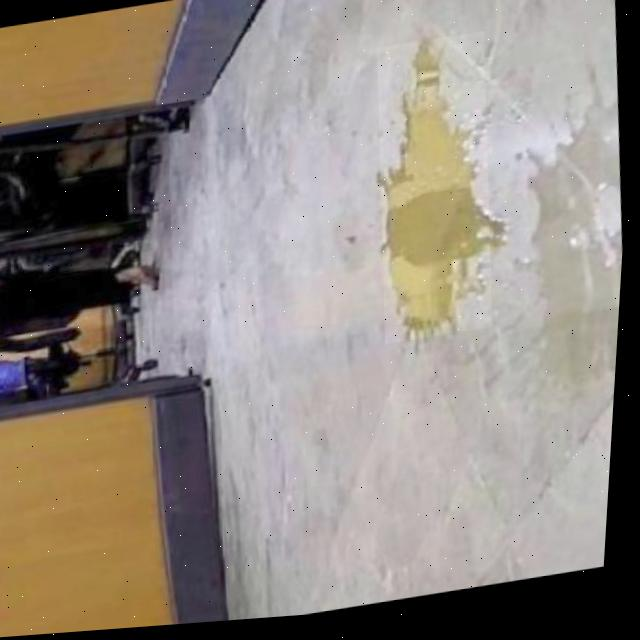spillage: (383, 46, 493, 344)
